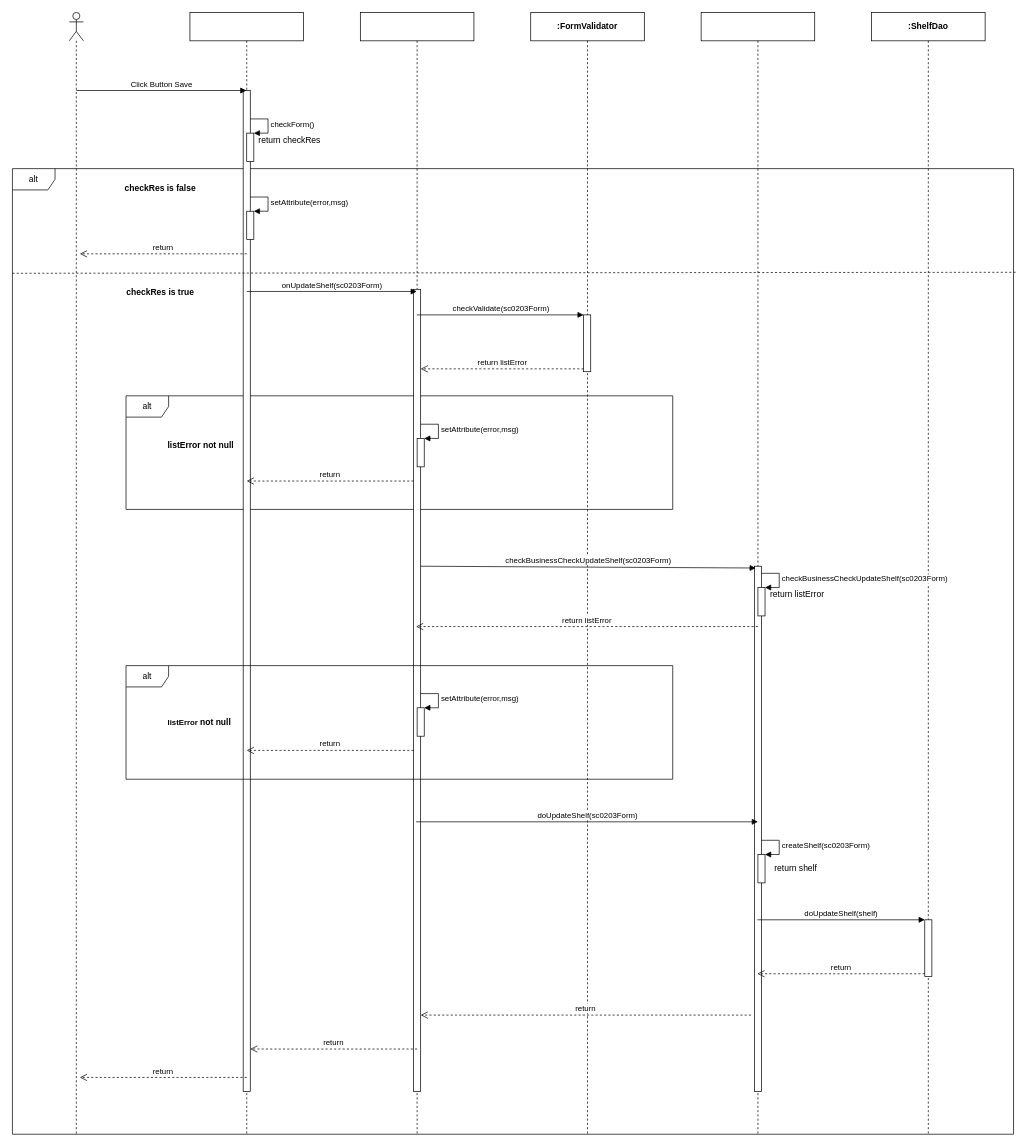
The diagram is 1031 pixels wide and 1147 high, and some of its shapes have lost their labels. The shapes that lost their labels are listed below. From the top down, each one's box as (x1, y1, x2, y2) in pixels, then its label:
(189, 12, 304, 1134): :SC0203Page
(360, 12, 474, 1134): :SC0203Controller
(700, 12, 815, 1134): : SC0203 Service
